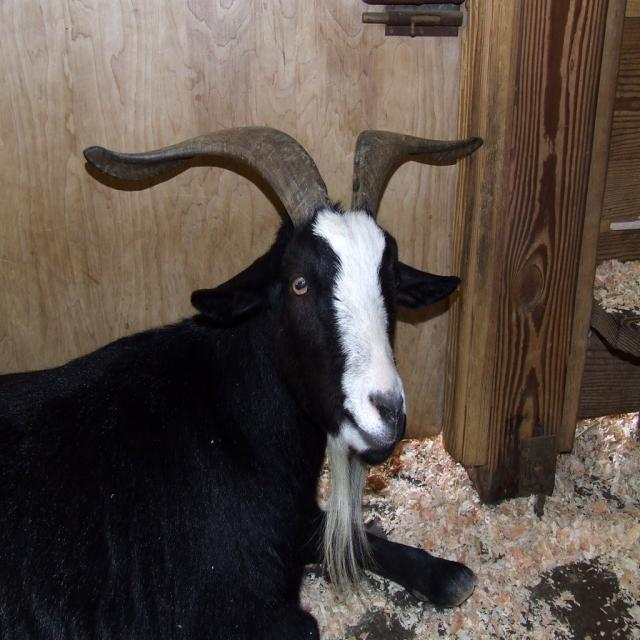Goat: (0, 125, 484, 637)
